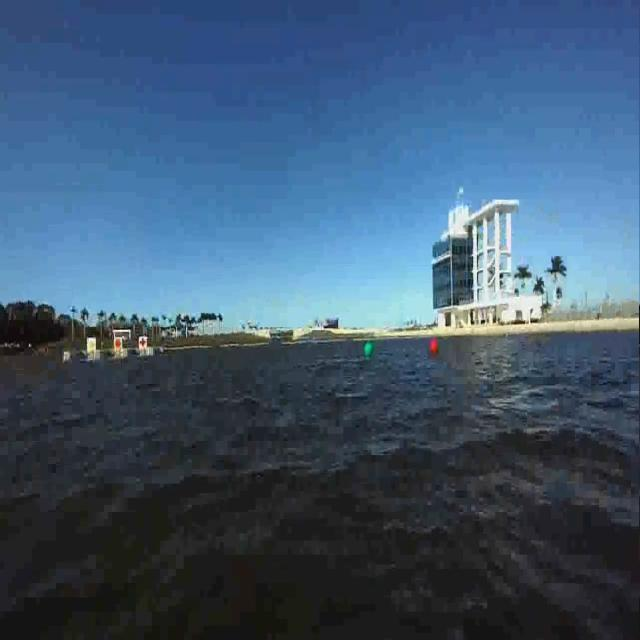green-buoy: (364, 342, 374, 358)
red-buoy: (429, 337, 438, 358)
